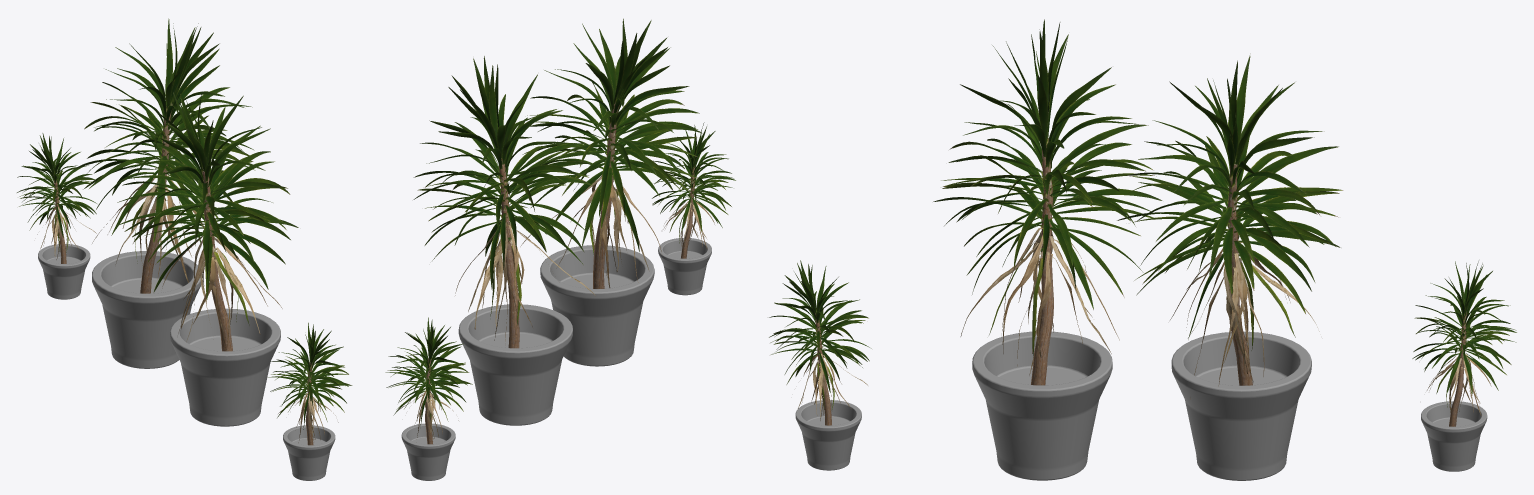
The model's file is flower pot.fbx.
3 views of the same model, side by side, from view 1: azimuth 30°, elevation 25°; view 2: azimuth 150°, elevation 25°; view 3: azimuth 270°, elevation 25° (orthographic). The views are drawn at different scales.
Visible parts, largest first — view 1: 02_2, 02_3, flower_pot, flower_pot_2, 02_4, 02_5, flower_pot_4, flower_pot_3; view 2: 02_3, 02_2, flower_pot_2, flower_pot, 02_5, 02_4, flower_pot_3, flower_pot_4; view 3: 02_3, 02_2, flower_pot, flower_pot_2, 02_4, 02_5, flower_pot_4, flower_pot_3.
Boxes of the visible parts, <box> form: 02_2: <box>117,91,298,351</box>; 02_3: <box>73,18,255,293</box>; flower_pot: <box>170,308,280,426</box>; flower_pot_2: <box>92,251,202,368</box>; 02_4: <box>268,322,352,445</box>; 02_5: <box>17,133,96,263</box>; flower_pot_4: <box>38,244,90,299</box>; flower_pot_3: <box>283,425,335,480</box>; 02_3: <box>413,56,595,348</box>; 02_2: <box>520,18,702,288</box>; flower_pot_2: <box>458,304,572,425</box>; flower_pot: <box>540,245,654,366</box>; 02_5: <box>385,317,472,444</box>; 02_4: <box>652,122,735,258</box>; flower_pot_3: <box>658,238,711,295</box>; flower_pot_4: <box>401,423,455,480</box>; 02_3: <box>1117,53,1343,399</box>; 02_2: <box>933,19,1162,385</box>; flower_pot: <box>972,331,1112,480</box>; flower_pot_2: <box>1171,331,1311,480</box>; 02_4: <box>769,260,871,425</box>; 02_5: <box>1412,261,1516,426</box>; flower_pot_4: <box>1421,401,1487,471</box>; flower_pot_3: <box>795,400,861,470</box>.
Size of the model in its own units: 119 by 208 by 337.
Materials: 2 (1 with a texture image).
